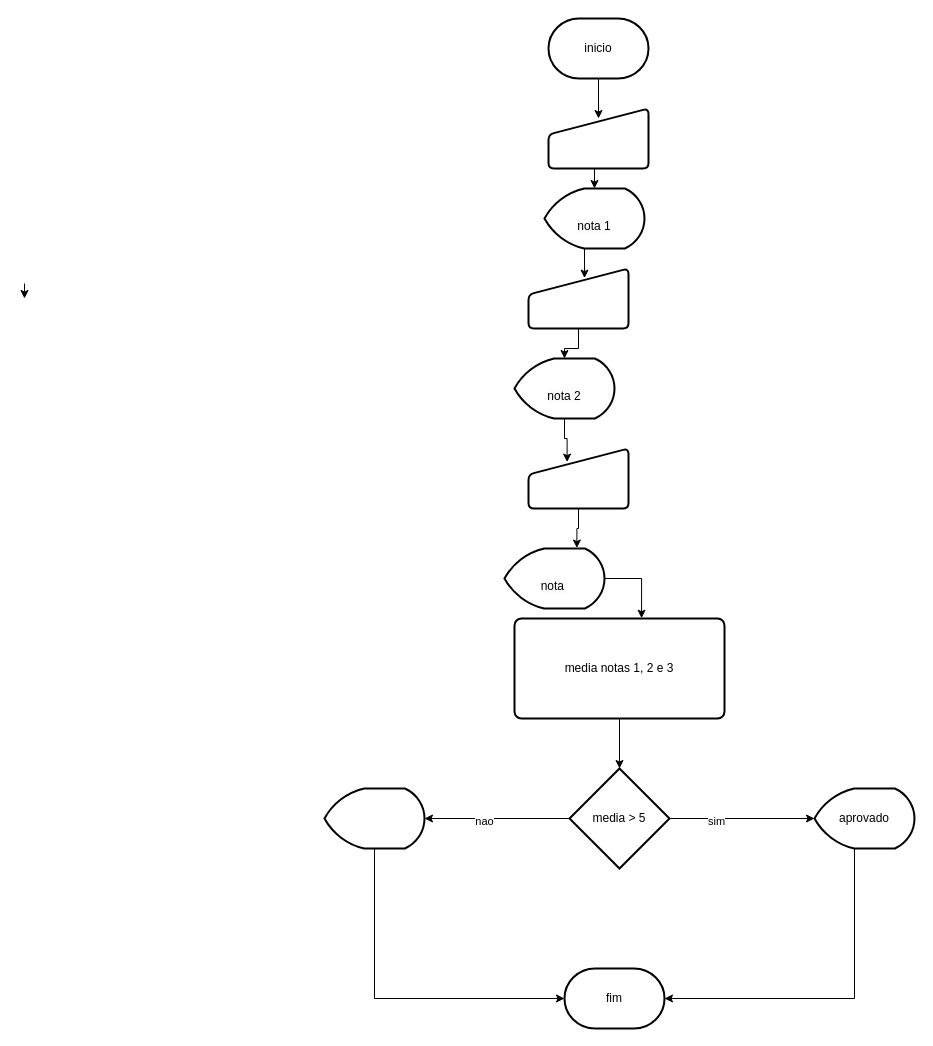
This 933x1046 diagram has some shape labels left out. The centre of each missing label's shape, as x and y in pixels:
"nota1" goes at point (598, 138).
"nota2" goes at point (578, 298).
"nota3" goes at point (578, 478).
"reprovado" goes at point (374, 818).
